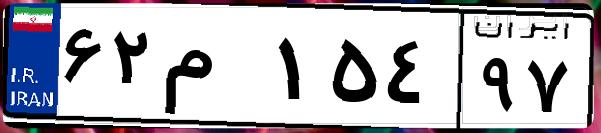1: (270, 28, 330, 110)
2: (110, 28, 158, 98)
4: (385, 28, 445, 110)
5: (330, 28, 385, 110)
6: (57, 26, 110, 100)
7: (525, 38, 570, 115)
9: (475, 38, 525, 113)
م: (158, 20, 270, 120)
